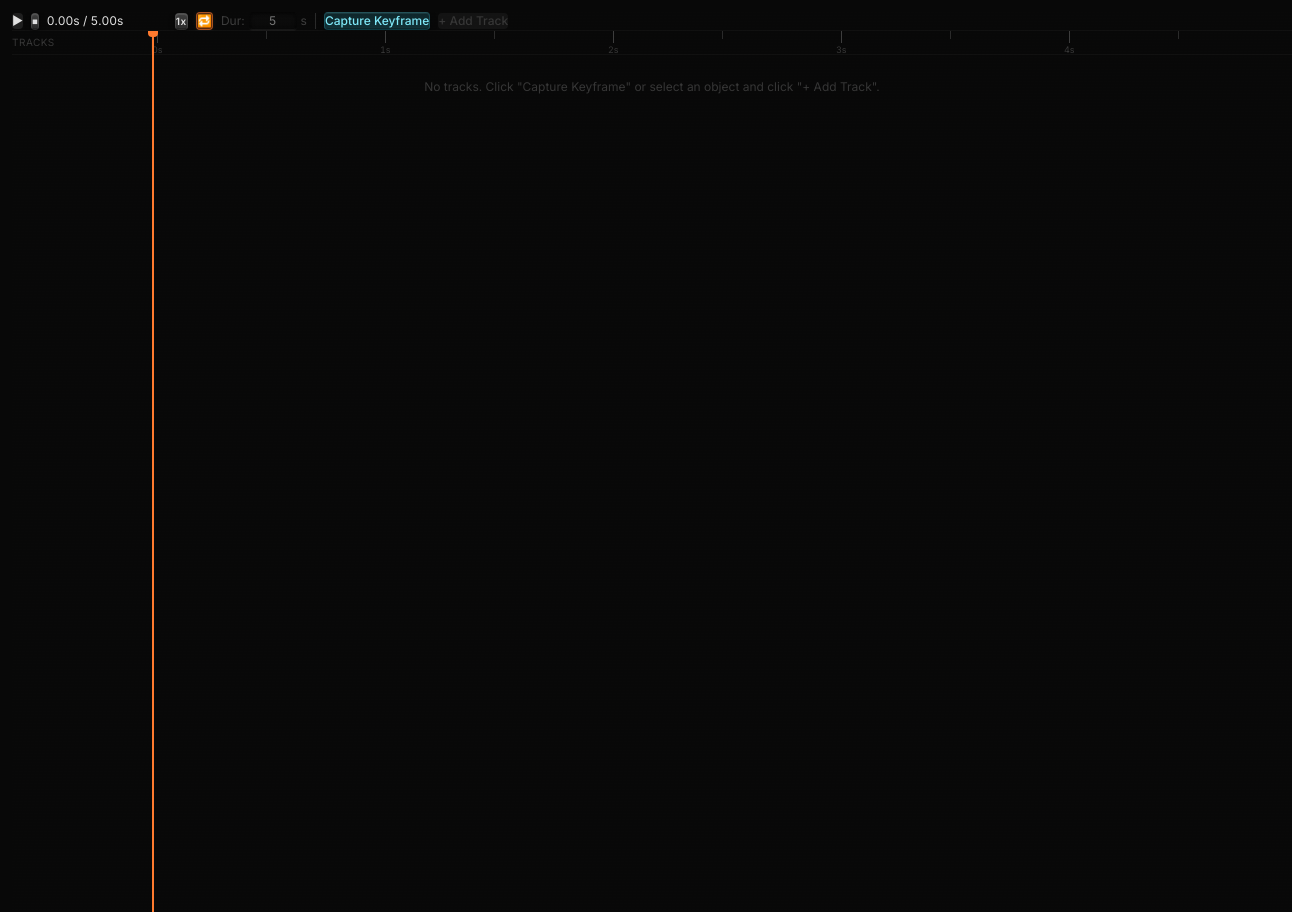
Scenario: AnimationTimeline › clicking loop toggles loop state
Click the button named "Disable loop". click: (204, 21)
box: [196,12,213,30]
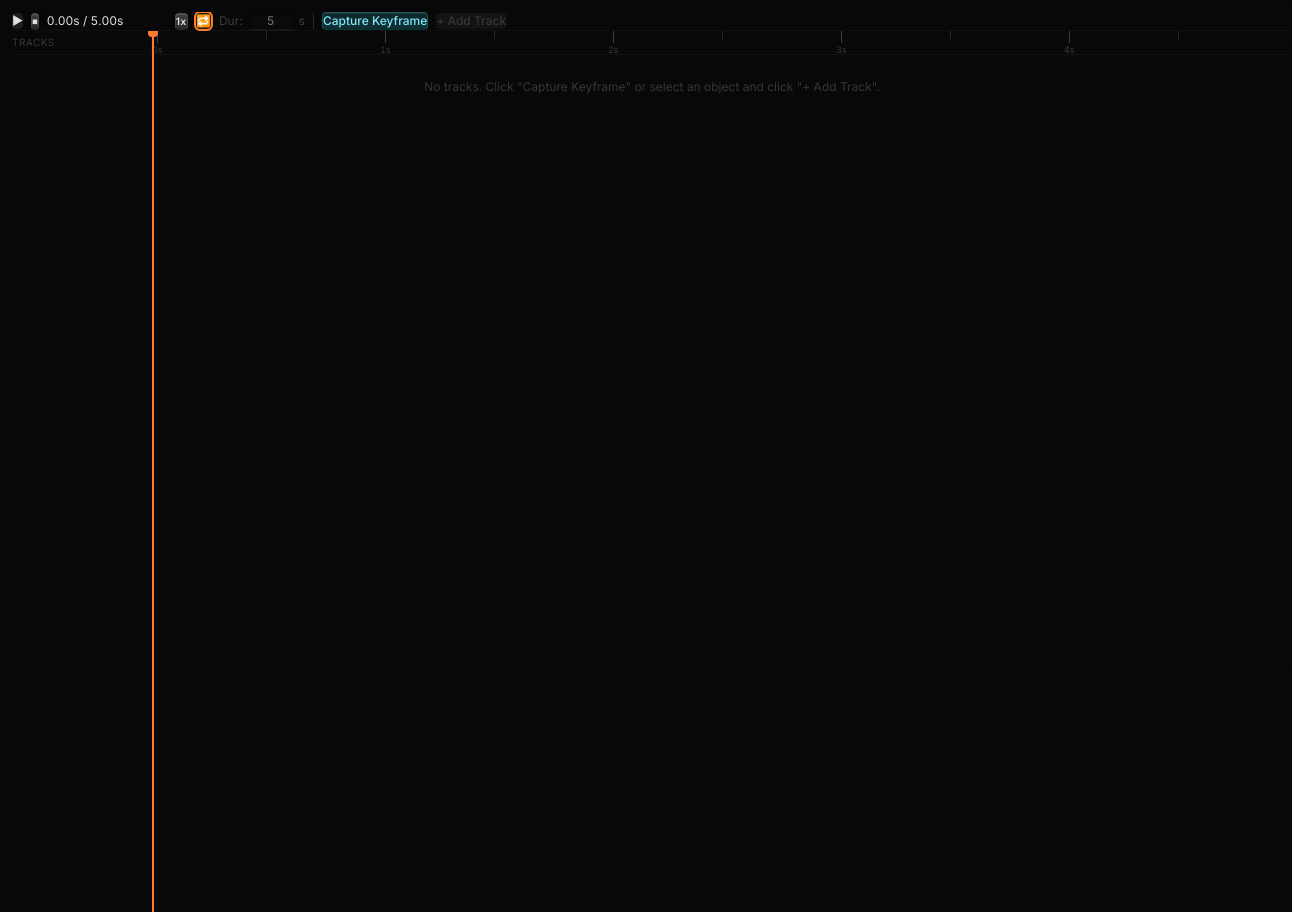
Expected: the button named "Enable loop" is shown, [196,13,211,29]
